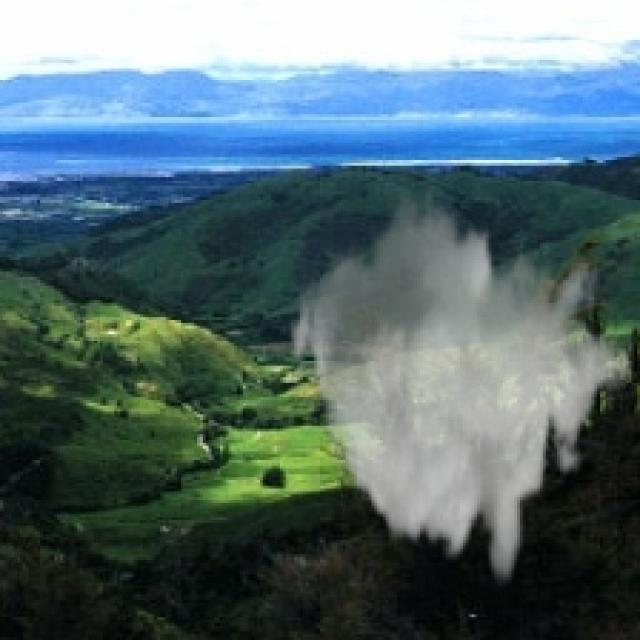smoke: (286, 180, 634, 586)
